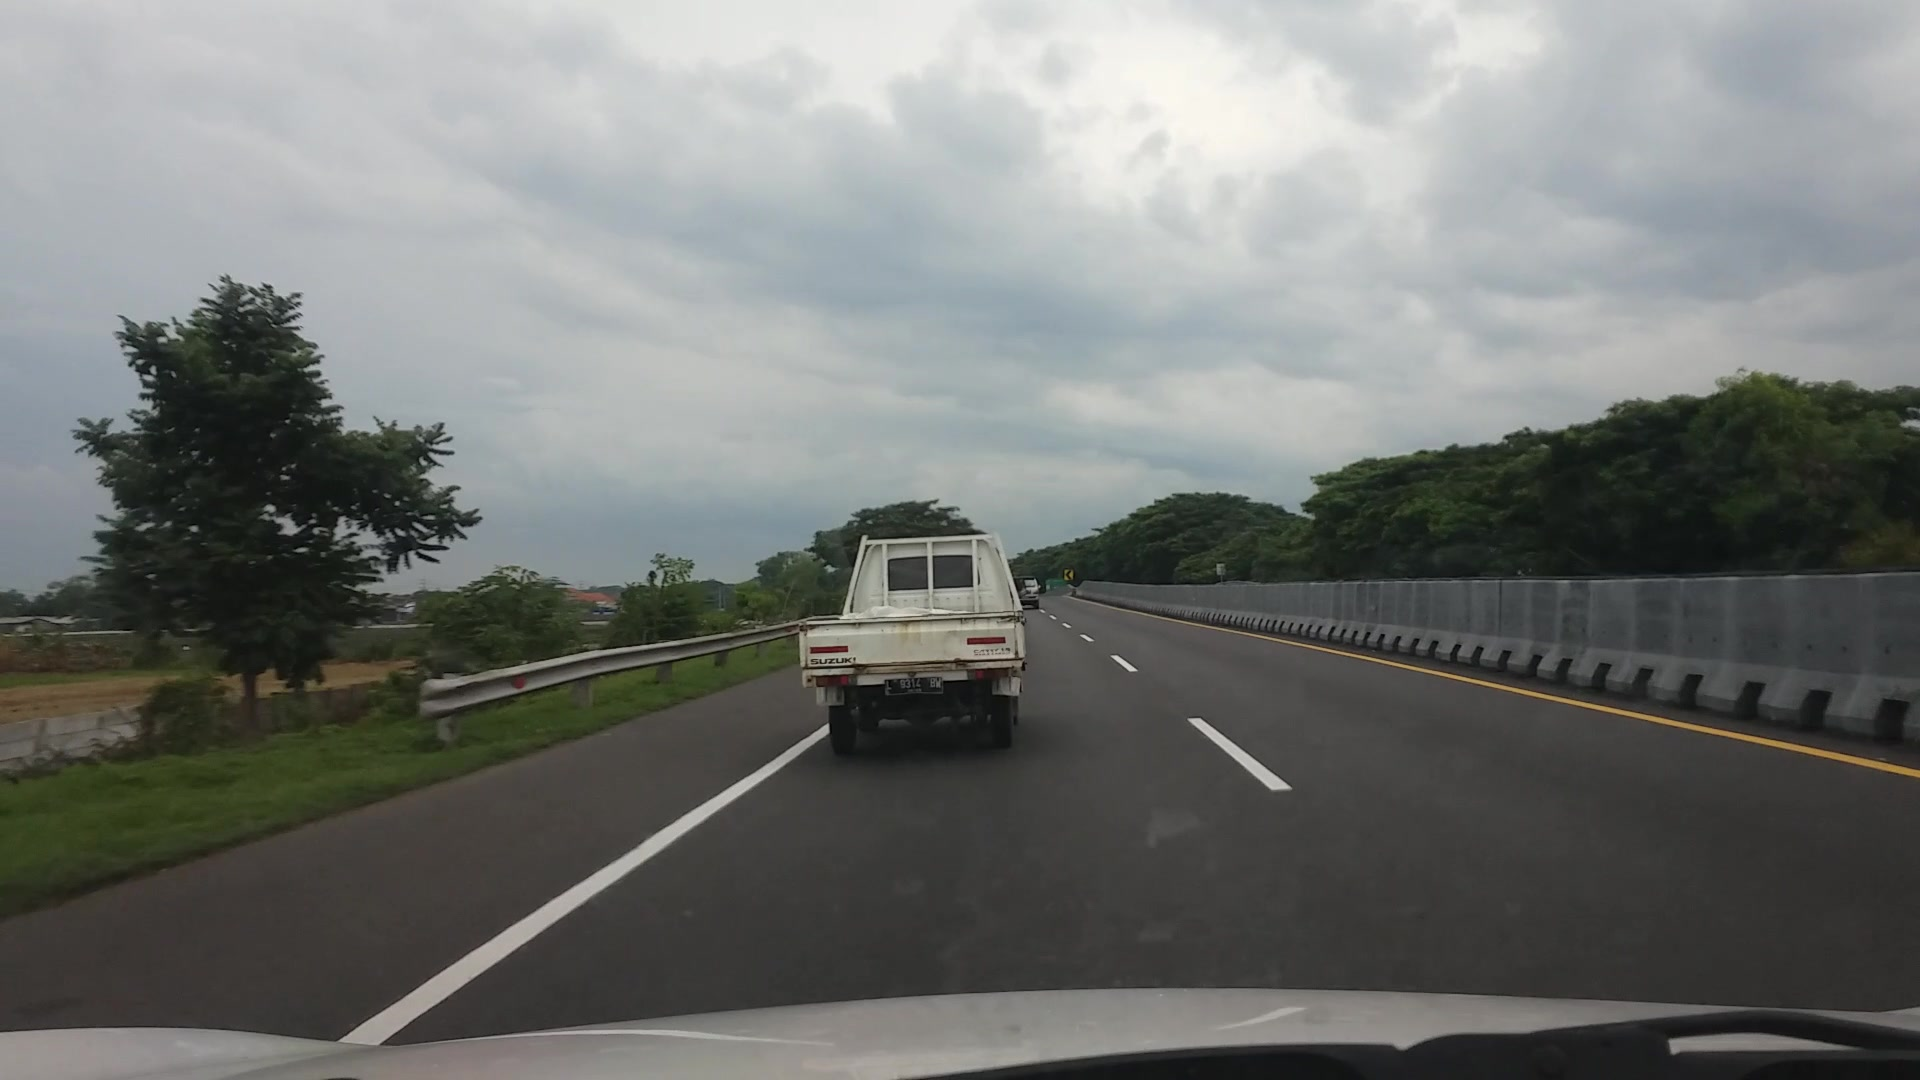plate_positive: (884, 676, 943, 695)
